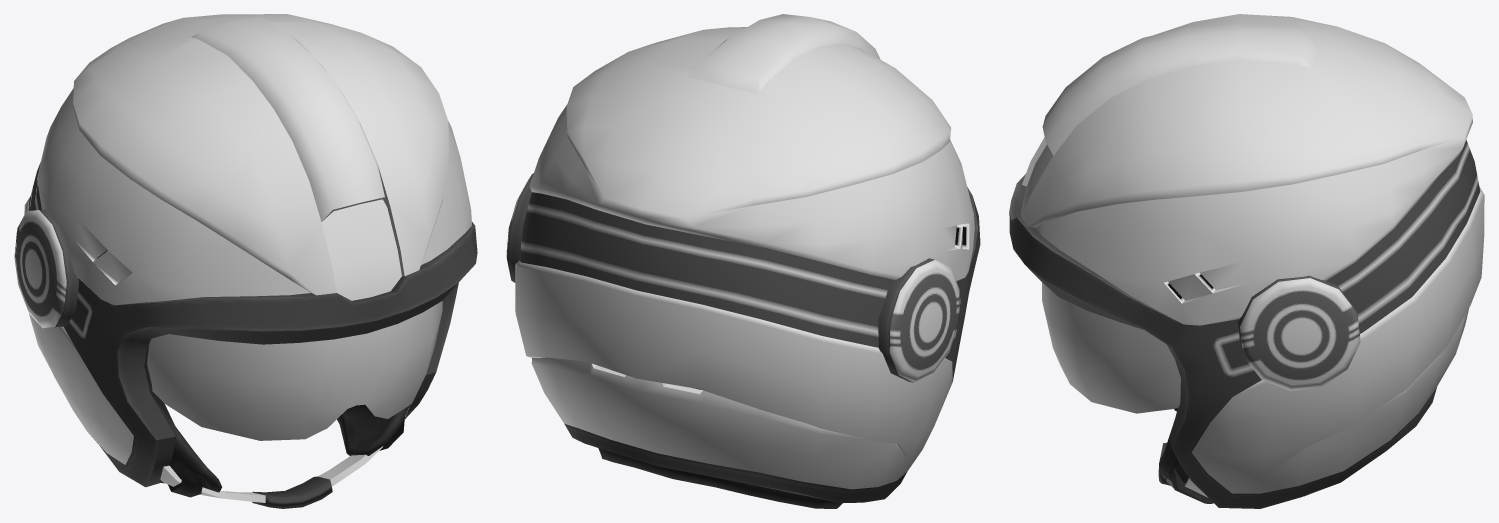
Rendered from p0_hdw0107_00_hdw00.gltf.
3 views of the same model, side by side, from view 1: azimuth 30°, elevation 25°; view 2: azimuth 150°, elevation 25°; view 3: azimuth 270°, elevation 25° (orthographic). The views are drawn at different scales.
Visible parts, largest first — view 1: hdw00_helmet_mesh_shape:cap, hdw00_shield_mesh_shape:cap, hdw00_strap_mesh_shape:cap; view 2: hdw00_helmet_mesh_shape:cap; view 3: hdw00_helmet_mesh_shape:cap, hdw00_shield_mesh_shape:cap.
Boxes of the visible parts, left/top/right/bottom form: hdw00_helmet_mesh_shape:cap: left=14, top=14, right=477, bottom=497; hdw00_shield_mesh_shape:cap: left=147, top=301, right=442, bottom=440; hdw00_strap_mesh_shape:cap: left=160, top=408, right=408, bottom=508; hdw00_helmet_mesh_shape:cap: left=506, top=14, right=980, bottom=508; hdw00_helmet_mesh_shape:cap: left=1009, top=14, right=1484, bottom=508; hdw00_shield_mesh_shape:cap: left=1042, top=282, right=1180, bottom=413.
Size of what is drawn, in the model's own units: 0.3092 by 0.3305 by 0.3174.
Materials: 2 (1 with a texture image).
